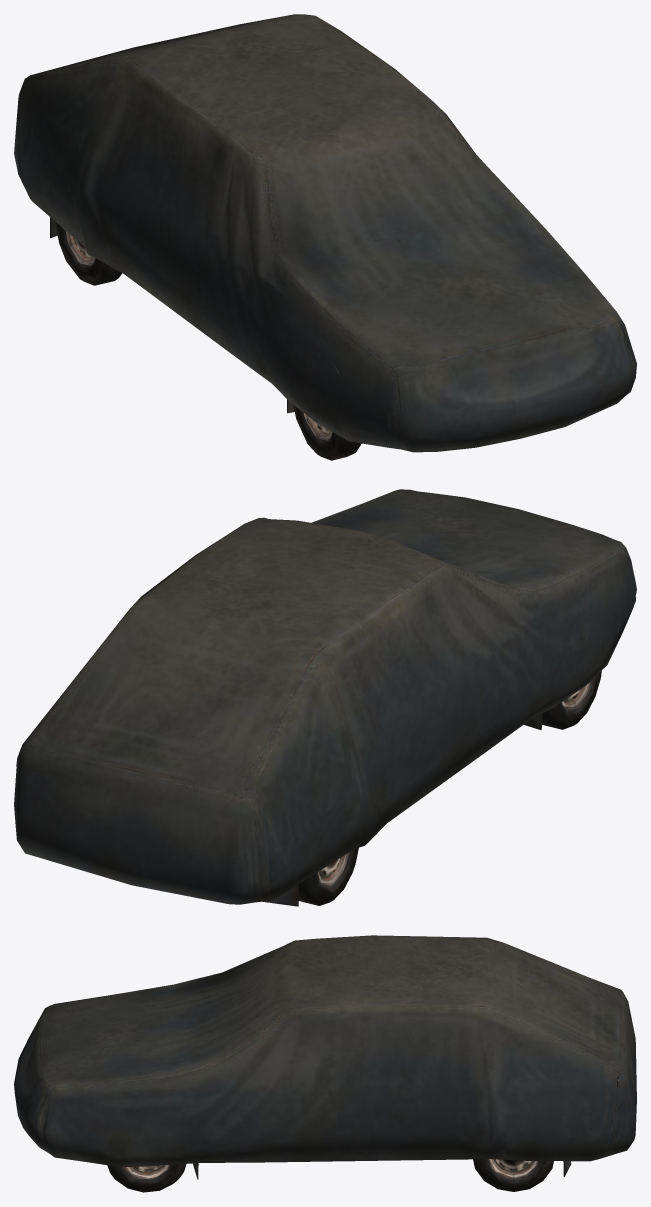
Rendered from covered_car.glb.
The picture shows the model from 3 angles, top to bottom: view 1: azimuth 30°, elevation 25°; view 2: azimuth 150°, elevation 25°; view 3: azimuth 270°, elevation 25°; orthographic projection. The views are drawn at different scales.
Visible parts, largest first — view 1: covered_car_wheel_01; view 2: covered_car_wheel_01; view 3: covered_car_wheel_01.
Part boxes in pixels (x1,y1,x2,y2): covered_car_wheel_01: [14, 14, 636, 460]; covered_car_wheel_01: [14, 489, 636, 906]; covered_car_wheel_01: [14, 935, 636, 1192].
Bounding box in the file's own units: 1.79 × 1.41 × 4.38.
1 material, 1 textured.
